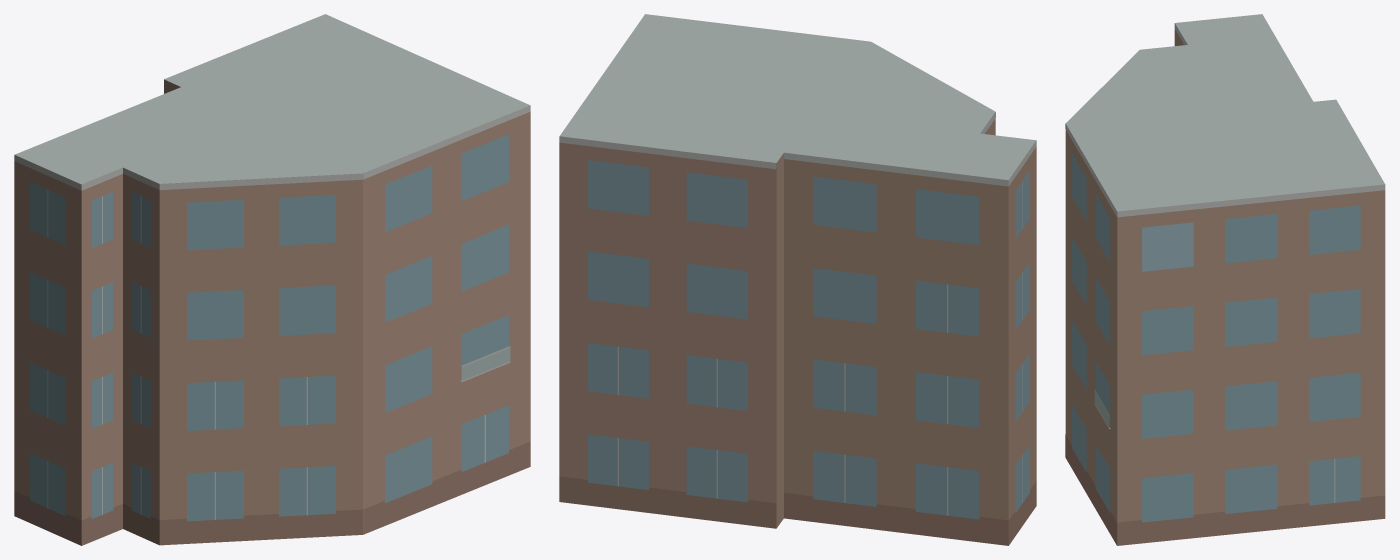
The model's file is survey-upis-32675881.glb.
3 renders of one model, left to right at view 1: azimuth 30°, elevation 25°; view 2: azimuth 150°, elevation 25°; view 3: azimuth 270°, elevation 25°, orthographic. The views are drawn at different scales.
Visible parts, largest first — view 1: survey-upis-32675881.tmp; view 2: survey-upis-32675881.tmp; view 3: survey-upis-32675881.tmp.
Boxes of the visible parts, box(x1,y1,x2,y2) form: survey-upis-32675881.tmp: box(14, 14, 530, 545); survey-upis-32675881.tmp: box(559, 14, 1036, 545); survey-upis-32675881.tmp: box(1065, 14, 1385, 545).
Bounding box in the file's own units: 17.94 × 14.15 × 12.27.
